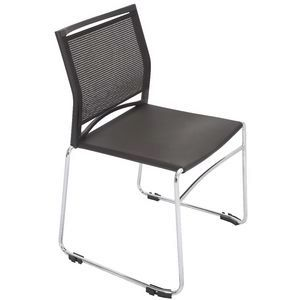chairs: (48, 4, 248, 298)
